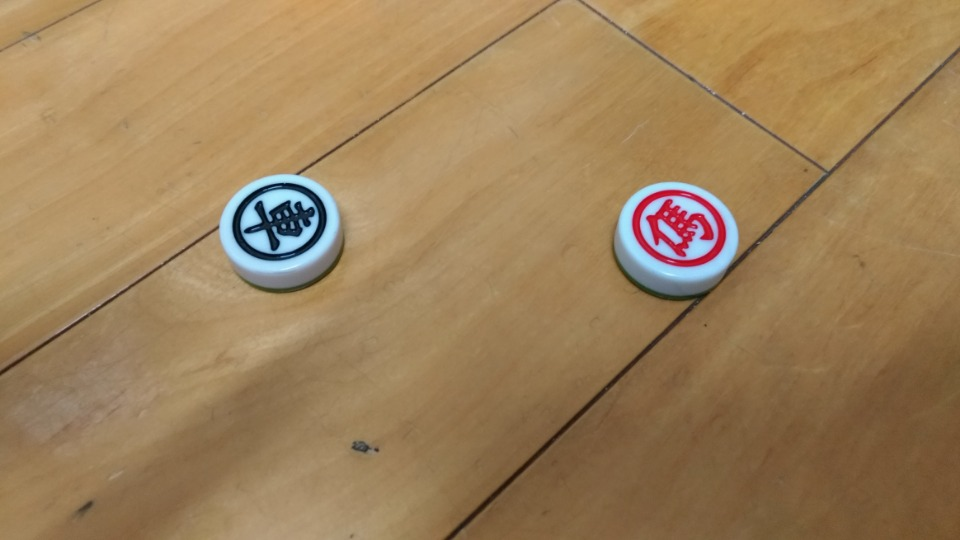b-rook: (209, 157, 355, 301)
r-knight: (603, 165, 753, 317)
